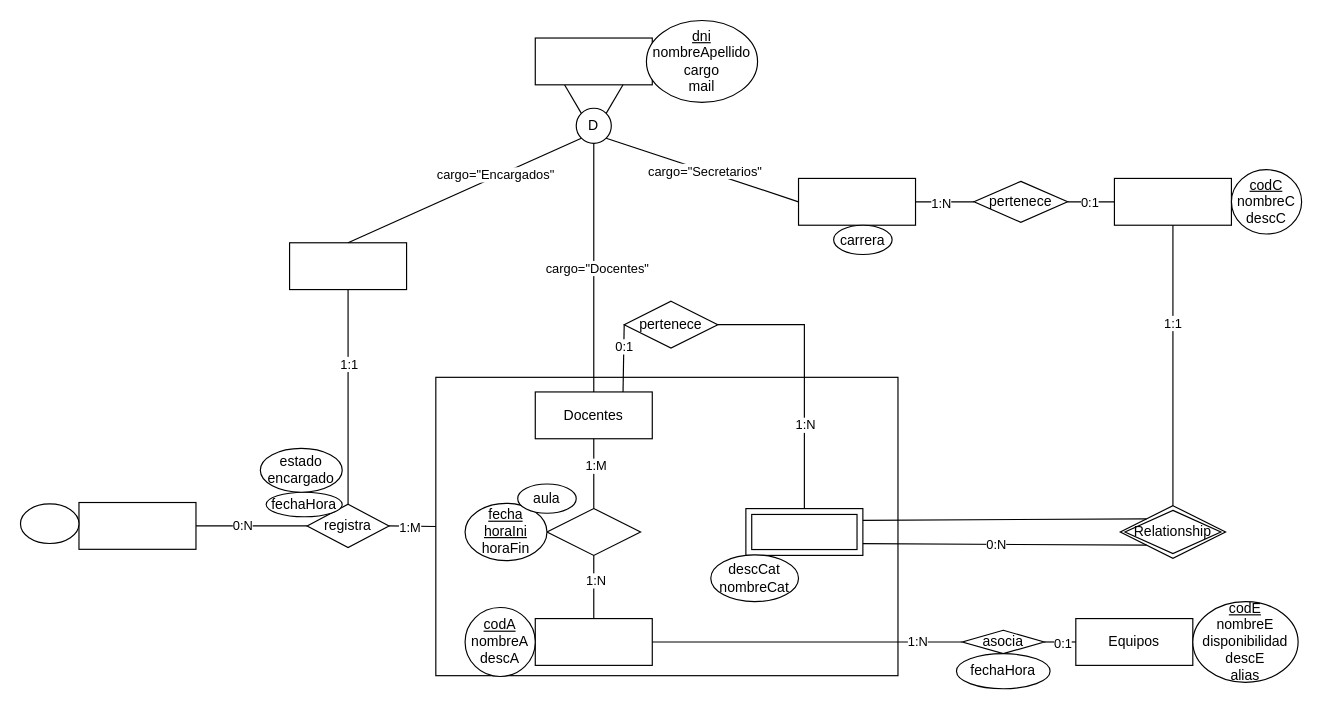
Some shapes in this 1322 by 710 pixel diagram are drawn without their labels. The centre of each missing label's shape, as x and y in pixels:
Aulas: (593,641)
Carreras: (1172,201)
codE descE: (49,523)
Cátedras: (804,531)
Encargados: (347,266)
Estados: (137,525)
Personal: (593,61)
reserva: (593,531)
Secretarios: (856,201)
